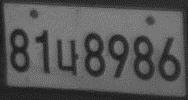1: (35, 28, 51, 75)
6: (157, 36, 181, 83)
8: (132, 34, 155, 81), (83, 32, 106, 78), (8, 26, 30, 72)
9: (107, 33, 130, 78)
나: (55, 37, 79, 76)
